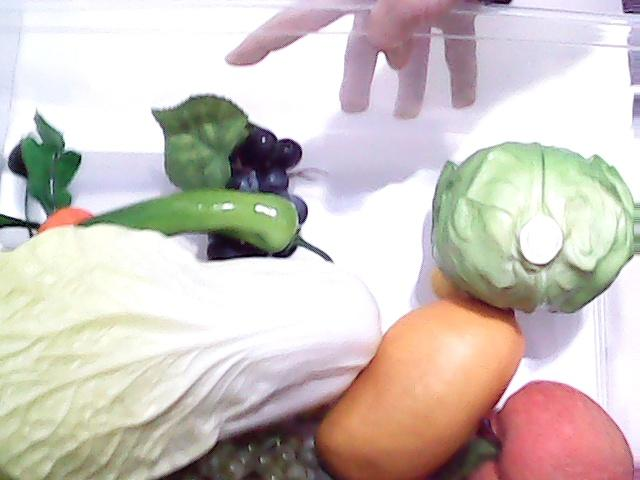cabbage: (428, 138, 640, 314)
carrot: (0, 106, 92, 234)
grape: (150, 93, 308, 257), (168, 416, 348, 480)
mango: (318, 286, 530, 480)
napa cabbage: (0, 220, 382, 480)
peach: (462, 379, 634, 480)
pepper: (74, 172, 314, 288)
